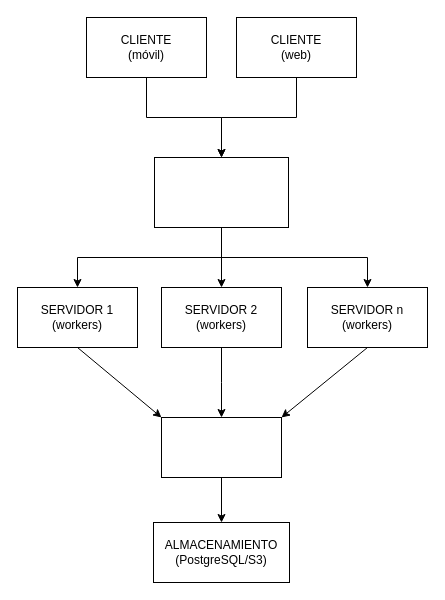
Some shapes in this 445 by 600 pixel diagram are drawn without their labels. The centre of each missing label's shape, as x and y in pixels:
BALANCEADOR DE CARGA (Nginx): [221,192]
COLA DE MENSAJES (RabbitMQ): [221,447]
